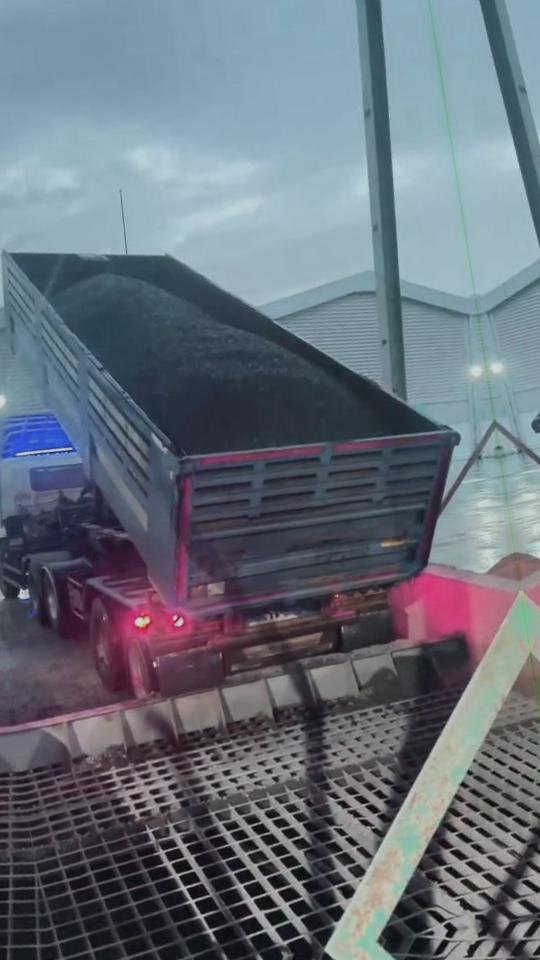gravel: (52, 273, 395, 454)
